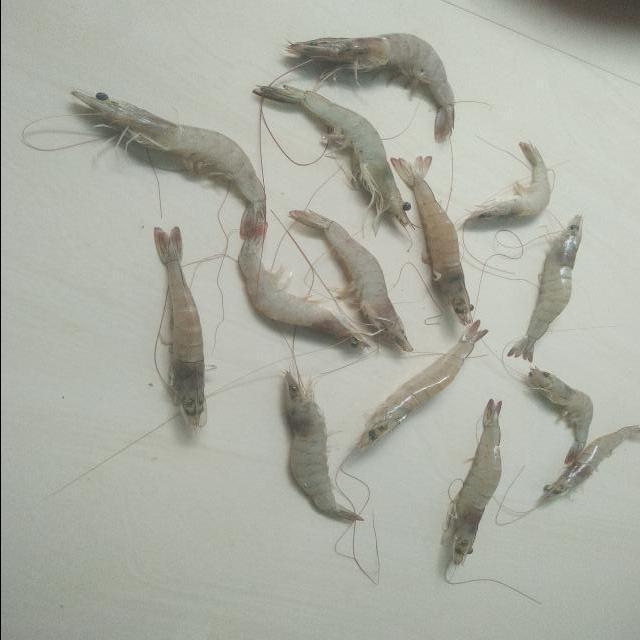shrimp: (70, 90, 264, 214), (252, 84, 411, 231), (286, 32, 455, 140), (289, 210, 413, 352), (358, 320, 488, 451), (238, 222, 369, 348), (390, 156, 473, 326), (285, 372, 362, 523), (509, 215, 583, 362), (153, 226, 205, 429), (442, 400, 502, 567), (541, 426, 640, 504), (466, 142, 551, 221), (527, 369, 593, 465)
